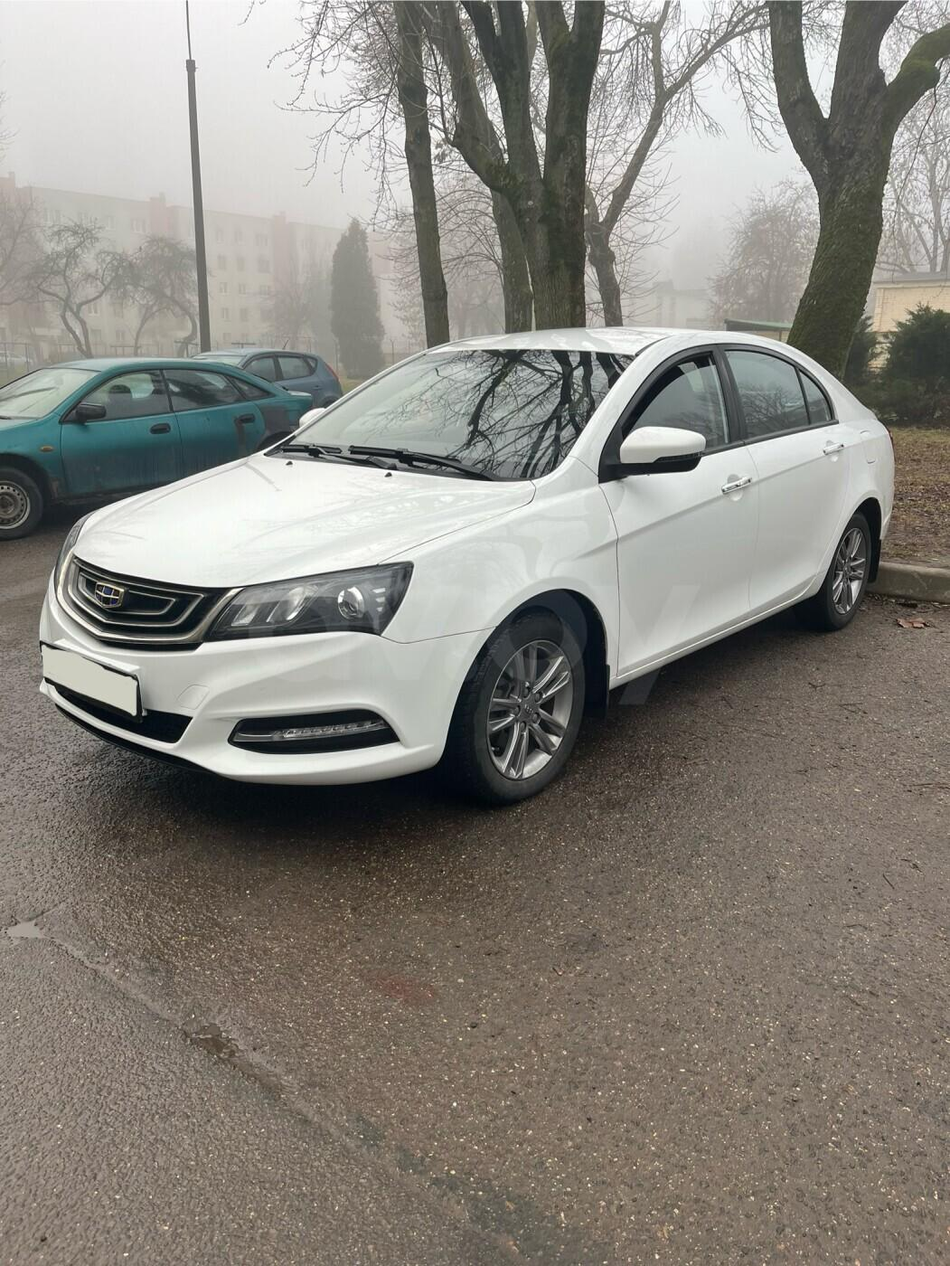Emgrand_2019-2021: (33, 324, 906, 796)
